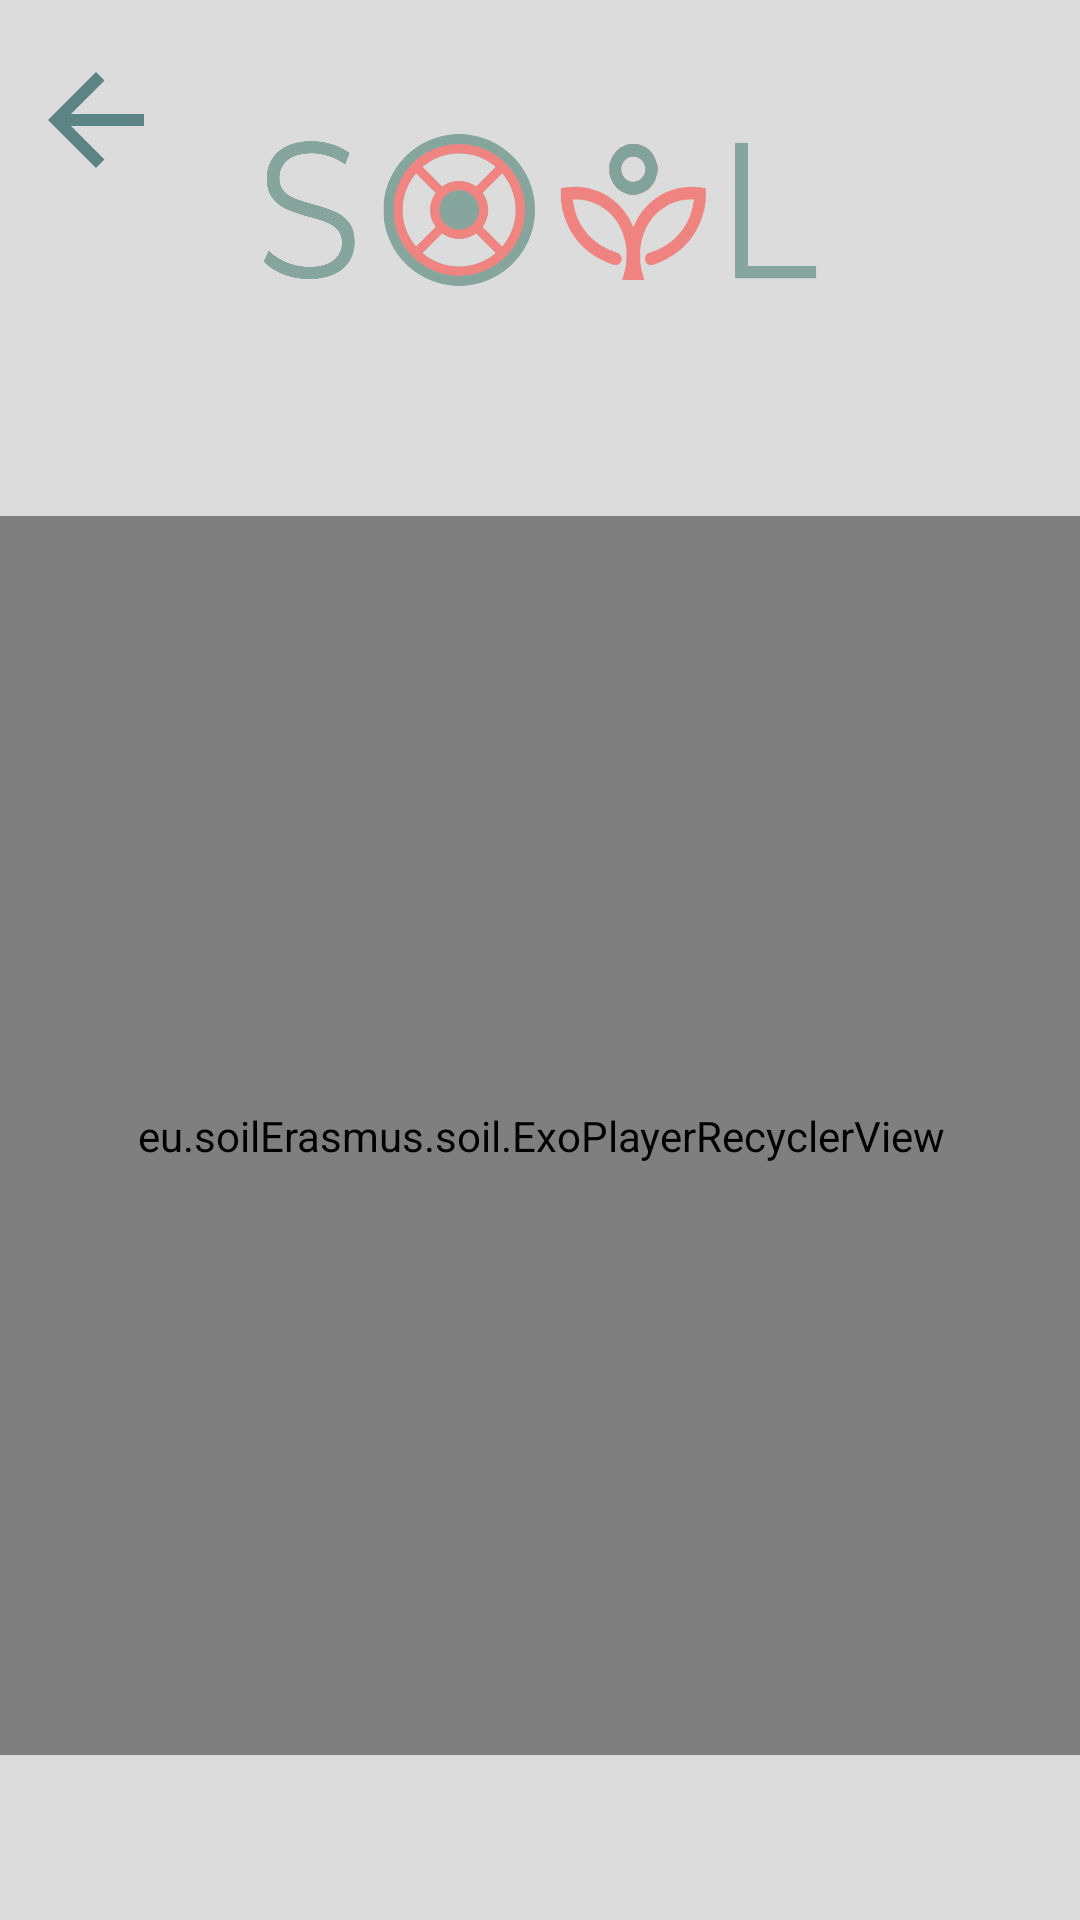

Where icons sit on this 1080x1920 app screen, as [x1,y1,x2,y2]:
Go Back: [48,72,144,168]
